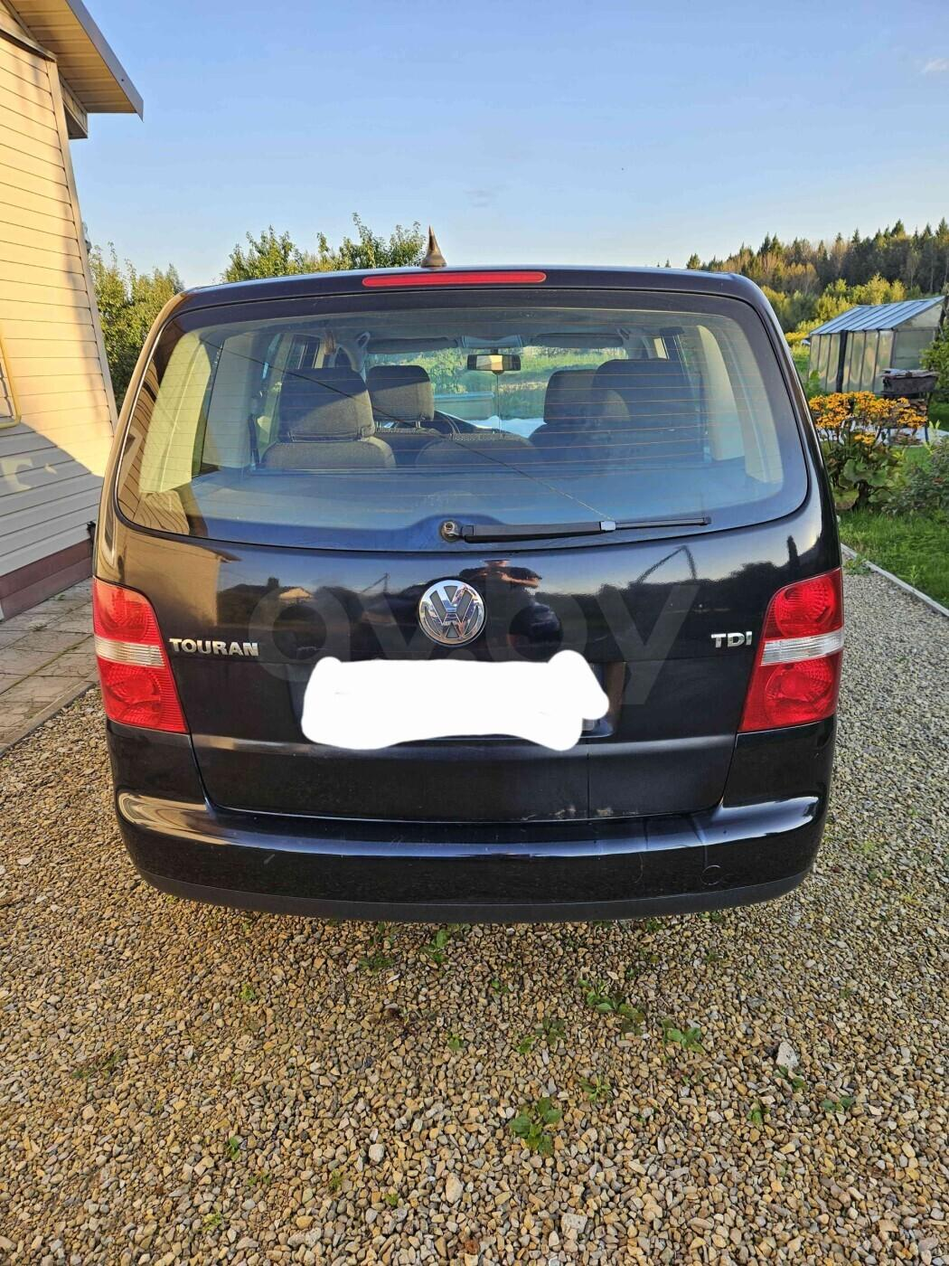Touran_2003-2006: (83, 264, 844, 921)
